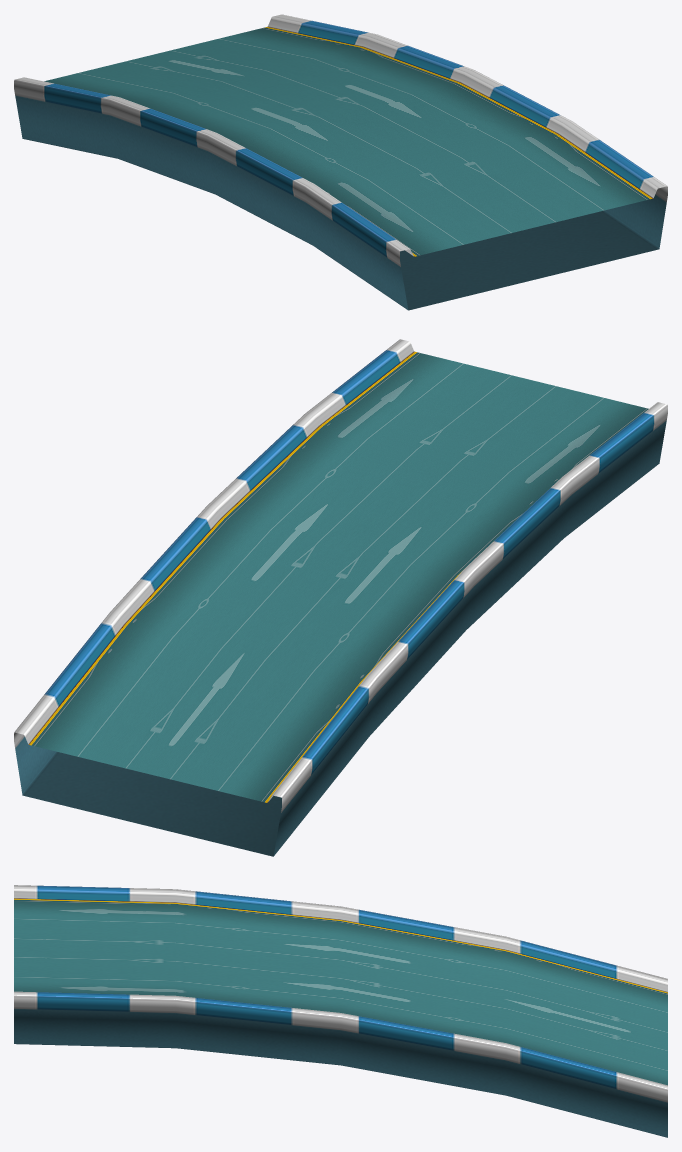
File: lu_luup3.fbx
3 renders of one model, top to bottom at view 1: azimuth 30°, elevation 25°; view 2: azimuth 150°, elevation 25°; view 3: azimuth 270°, elevation 25°, orthographic. The views are drawn at different scales.
Parts seen in each view (by area): view 1: lu_luup3; view 2: lu_luup3; view 3: lu_luup3.
Part boxes in pixels (left/top/right/bottom): lu_luup3: left=14, top=14, right=667, bottom=310; lu_luup3: left=14, top=339, right=667, bottom=856; lu_luup3: left=14, top=885, right=667, bottom=1137.
Bounding box in the file's own units: 4893 × 2997 × 12200.
